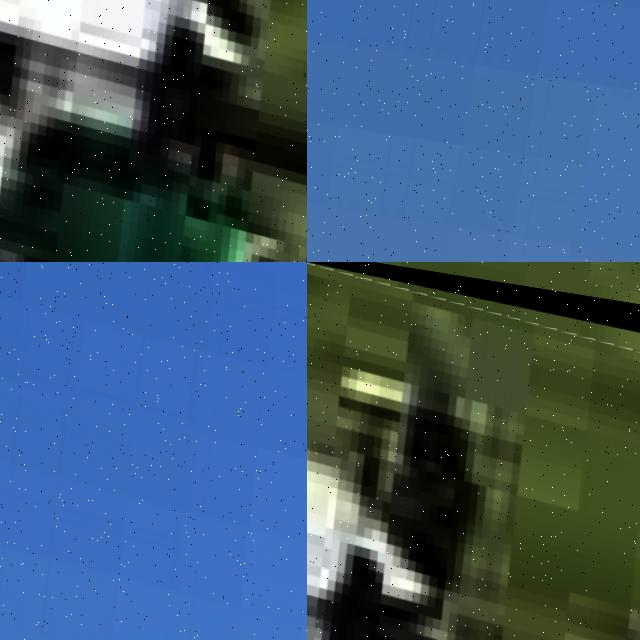drone: (307, 262, 640, 640), (0, 262, 307, 640), (0, 0, 307, 262)
